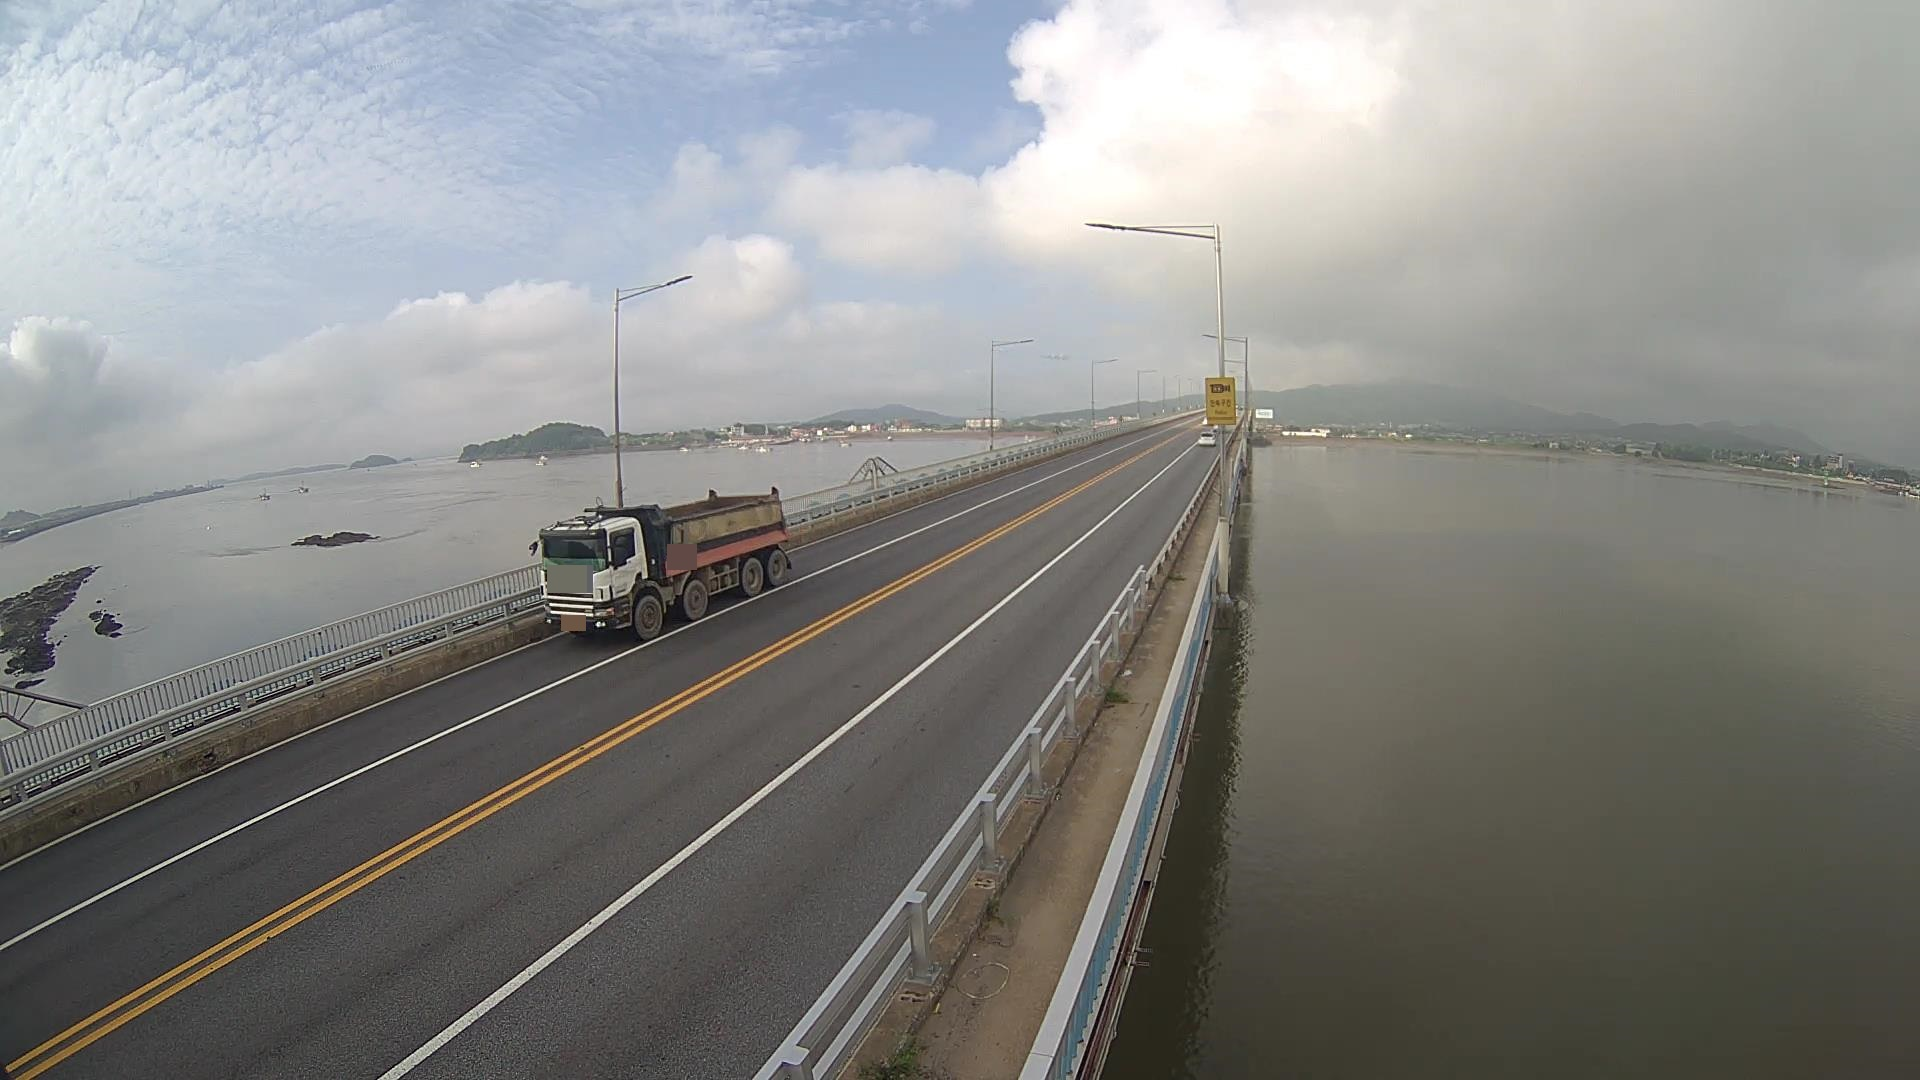정상차량: (529, 485, 793, 641)
